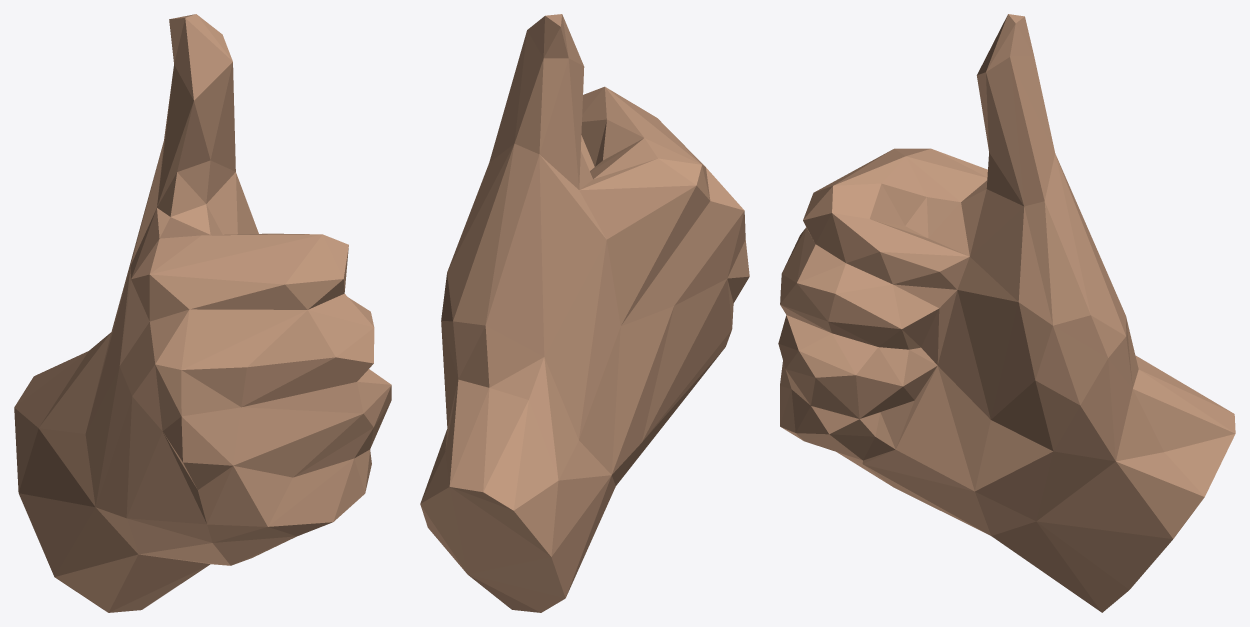
File: thumbsUp.glb
3 views of the same model, side by side, from view 1: azimuth 30°, elevation 25°; view 2: azimuth 150°, elevation 25°; view 3: azimuth 270°, elevation 25° (orthographic). The views are drawn at different scales.
Visible parts, largest first — view 1: thumbsUp; view 2: thumbsUp; view 3: thumbsUp.
Part boxes in pixels (left/top/right/bottom): thumbsUp: left=14, top=14, right=391, bottom=612; thumbsUp: left=420, top=14, right=749, bottom=612; thumbsUp: left=778, top=14, right=1235, bottom=612.
Size of the model in its own units: 10.04 by 27.32 by 18.99.
1 material, 1 textured.
